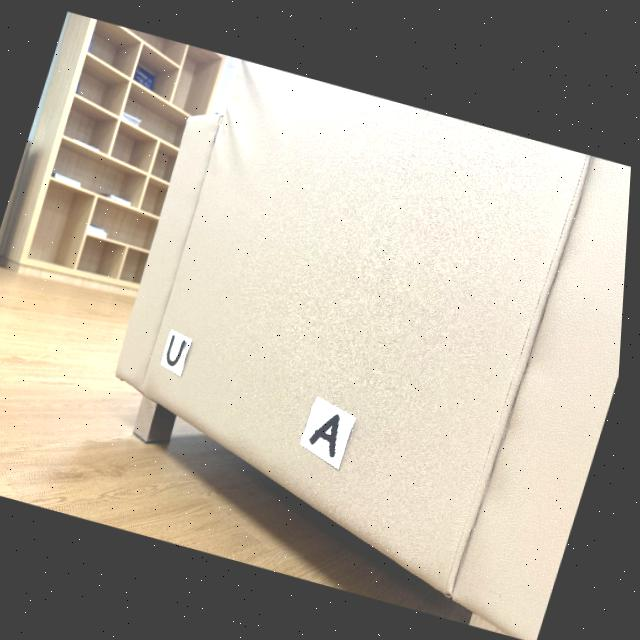A: (314, 412, 345, 455)
U: (170, 334, 190, 365)
